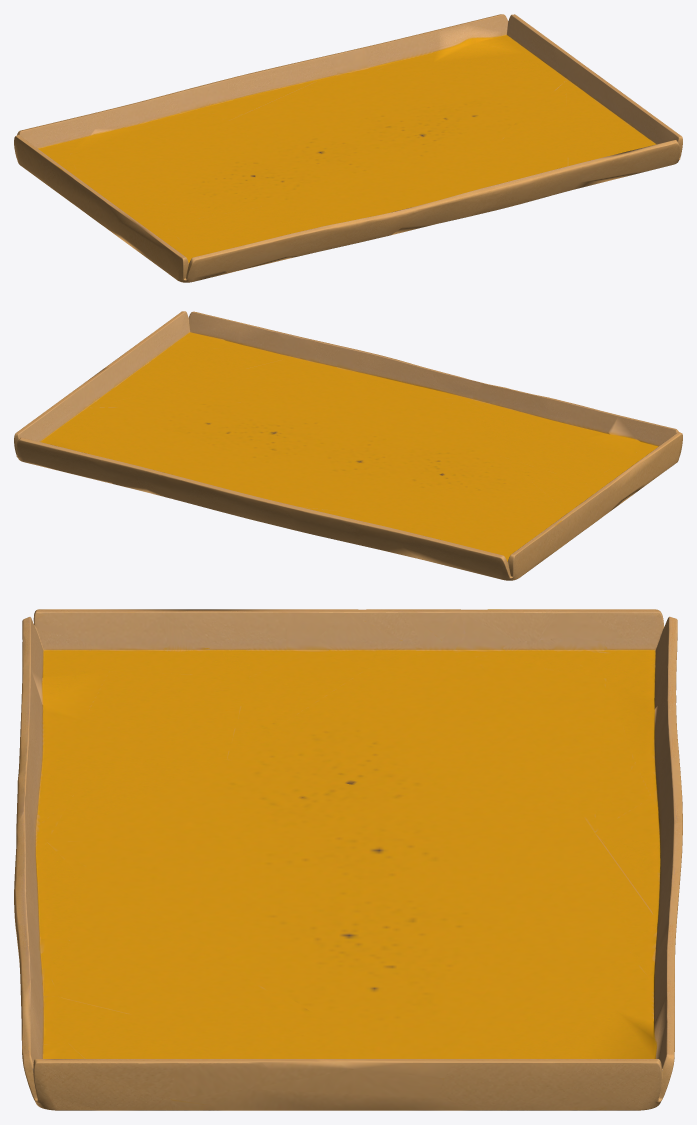
Rendered from sticky_trap.glb.
3 renders of one model, top to bottom at view 1: azimuth 30°, elevation 25°; view 2: azimuth 150°, elevation 25°; view 3: azimuth 270°, elevation 25°, orthographic. The views are drawn at different scales.
Size of the model in its own units: 1.9 by 0.096 by 1.18.
1 material, 1 textured.
